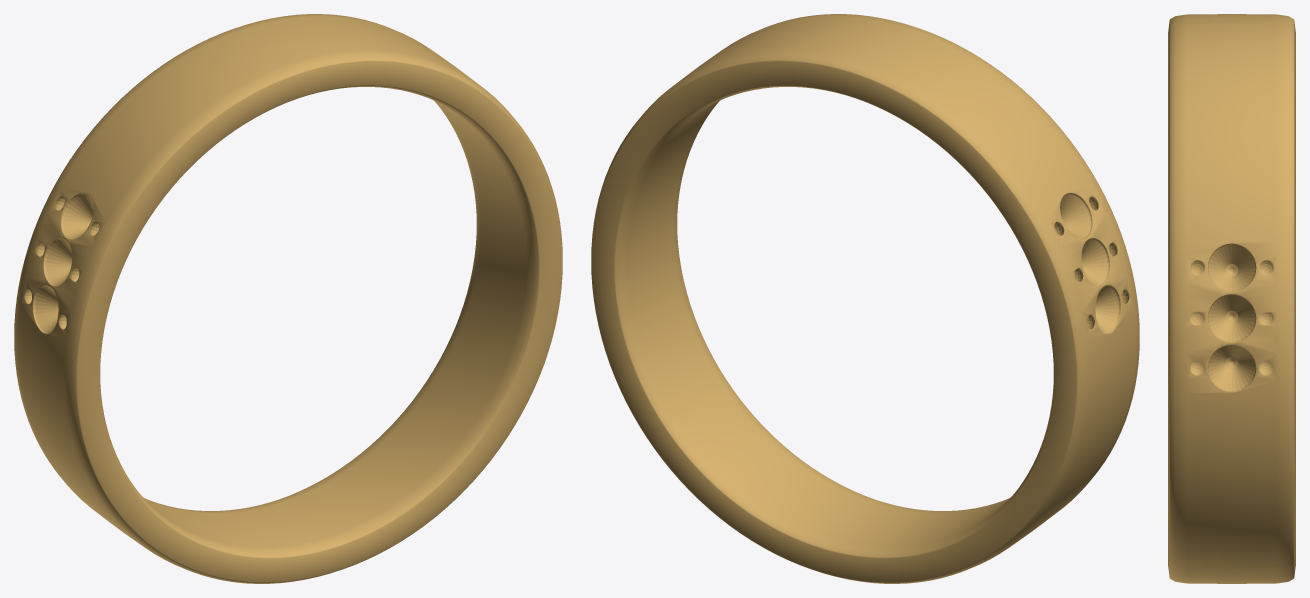
File: wide-scalloped-u-cut-wide.glb
The picture shows the model from 3 angles, left to right: view 1: azimuth 30°, elevation 25°; view 2: azimuth 150°, elevation 25°; view 3: azimuth 270°, elevation 25°; orthographic projection.
Parts seen in each view (by area): view 1: Band; view 2: Band; view 3: Band.
Boxes of the visible parts, x1=… form: Band: x1=14, y1=14, x2=562, y2=583; Band: x1=591, y1=14, x2=1139, y2=583; Band: x1=1168, y1=14, x2=1295, y2=583.
Size of the model in its own units: 19.6 by 19.6 by 4.4.
